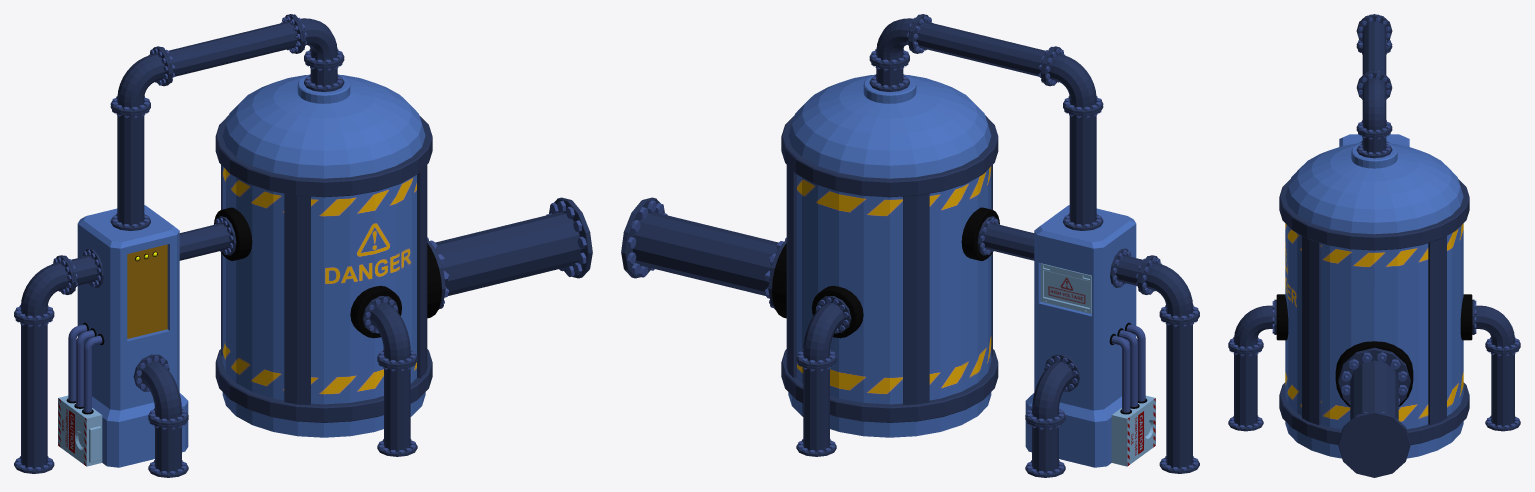
File: M4_Style_B_Light.fbx
3 views of the same model, side by side, from view 1: azimuth 30°, elevation 25°; view 2: azimuth 150°, elevation 25°; view 3: azimuth 270°, elevation 25° (orthographic). The views are drawn at different scales.
Parts seen in each view (by area): view 1: M4; view 2: M4; view 3: M4.
Part boxes in pixels (box(x1,y1,x2,y2)): M4: box(14, 14, 592, 477); M4: box(621, 14, 1199, 477); M4: box(1228, 14, 1520, 477).
Size of the model in its own units: 948 by 630 by 492.
